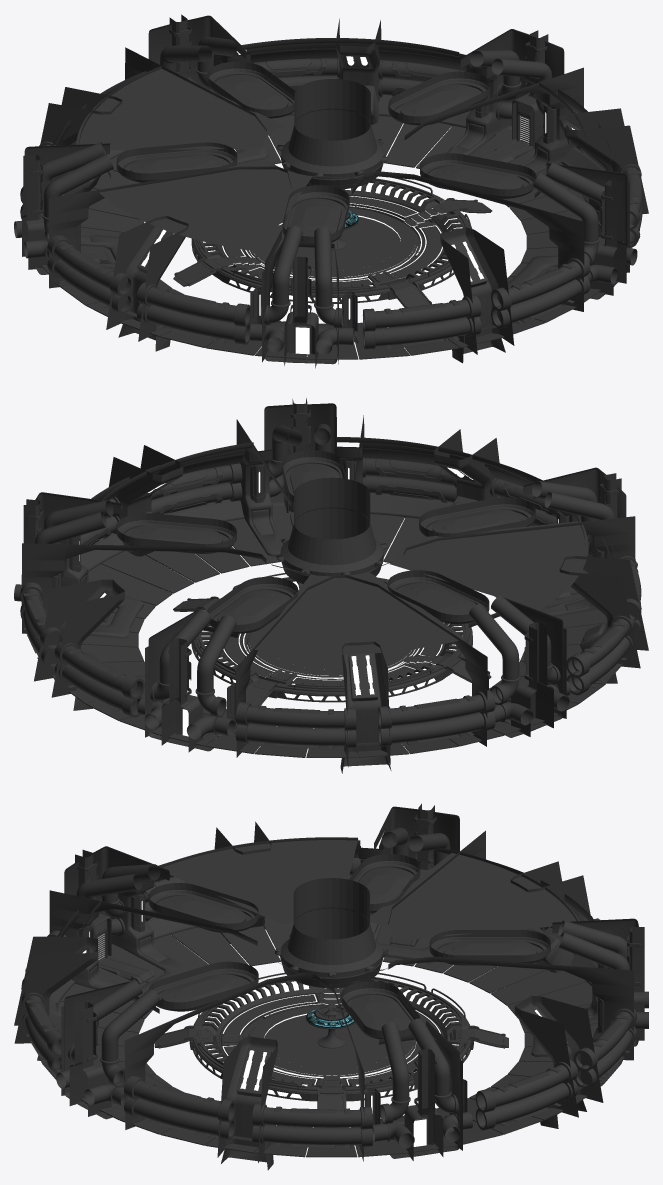
3 views of the same model, one above another, from view 1: azimuth 30°, elevation 25°; view 2: azimuth 150°, elevation 25°; view 3: azimuth 270°, elevation 25° (orthographic).
Visible parts, largest first — view 1: cake-slice-decoration.002, outer-structure-lamps, outer-structure-vents, outer-structure, outer_plate, cake-slice-decoration.001, cake-slice-decoration.003, inner-collection, center-lamp, cake-slice-decoration, cake-slice-decoration.004, outer-structure-pipes.002 (+11 smaller); view 2: cake-slice-decoration.001, cake-slice-decoration.002, outer_plate, outer-structure-lamps, outer-structure, outer-structure-vents, cake-slice-decoration.003, cake-slice-decoration, cake-slice-decoration.004, center-lamp, inner-collection, outer-structure-pipes (+12 smaller); view 3: outer_plate, outer-structure-lamps, outer-structure-vents, outer-structure, cake-slice-decoration.001, cake-slice-decoration.004, inner-collection, cake-slice-decoration.002, cake-slice-decoration, center-lamp, cake-slice-decoration.003, inner-collection.002 (+11 smaller).
Part boxes in pixels (x1,y1,x2,y2): cake-slice-decoration.002: [47, 160, 312, 351]; outer-structure-lamps: [116, 61, 536, 242]; outer-structure-vents: [22, 14, 627, 368]; outer-structure: [23, 35, 629, 364]; outer_plate: [41, 115, 631, 359]; cake-slice-decoration.001: [20, 65, 284, 219]; cake-slice-decoration.003: [362, 227, 590, 363]; inner-collection: [173, 177, 492, 307]; center-lamp: [276, 79, 388, 189]; cake-slice-decoration: [236, 18, 470, 127]; cake-slice-decoration.004: [524, 75, 648, 247]; outer-structure-pipes.002: [250, 226, 354, 354]; cake-slice-decoration.001: [235, 572, 495, 773]; cake-slice-decoration.002: [389, 513, 648, 696]; outer_plate: [37, 505, 622, 757]; outer-structure-lamps: [116, 450, 535, 633]; outer-structure: [22, 415, 635, 757]; outer-structure-vents: [21, 398, 626, 752]; cake-slice-decoration.003: [336, 429, 558, 526]; cake-slice-decoration: [20, 579, 144, 718]; cake-slice-decoration.004: [80, 442, 253, 571]; center-lamp: [276, 477, 387, 583]; inner-collection: [173, 573, 491, 706]; outer-structure-pipes: [137, 609, 236, 739]; outer_plate: [39, 917, 623, 1157]; outer-structure-lamps: [148, 854, 550, 1039]; outer-structure-vents: [64, 803, 644, 1160]; outer-structure: [49, 827, 634, 1161]; cake-slice-decoration.001: [370, 847, 597, 986]; cake-slice-decoration.004: [124, 1036, 372, 1170]; inner-collection: [154, 972, 508, 1110]; cake-slice-decoration.002: [145, 821, 360, 943]; cake-slice-decoration: [473, 996, 637, 1132]; center-lamp: [275, 878, 388, 988]; cake-slice-decoration.003: [14, 902, 100, 1074]; inner-collection.002: [195, 979, 468, 1091].
Bounding box in the file's own units: 91.78 × 25.45 × 93.48.
4 materials, 1 textured.
